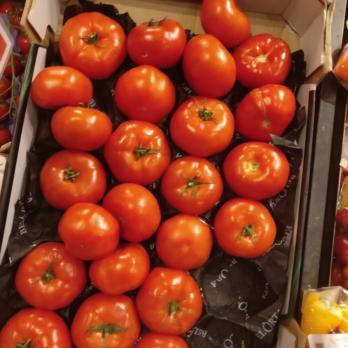Tomato: (172, 87, 241, 157), (54, 12, 125, 80), (35, 146, 111, 206), (105, 115, 179, 175), (8, 244, 83, 303), (139, 269, 202, 332), (81, 292, 141, 348), (30, 54, 101, 101), (59, 210, 122, 260), (128, 18, 185, 69), (189, 39, 235, 96), (241, 35, 292, 85), (53, 108, 112, 151), (240, 82, 291, 131), (9, 318, 68, 348)
